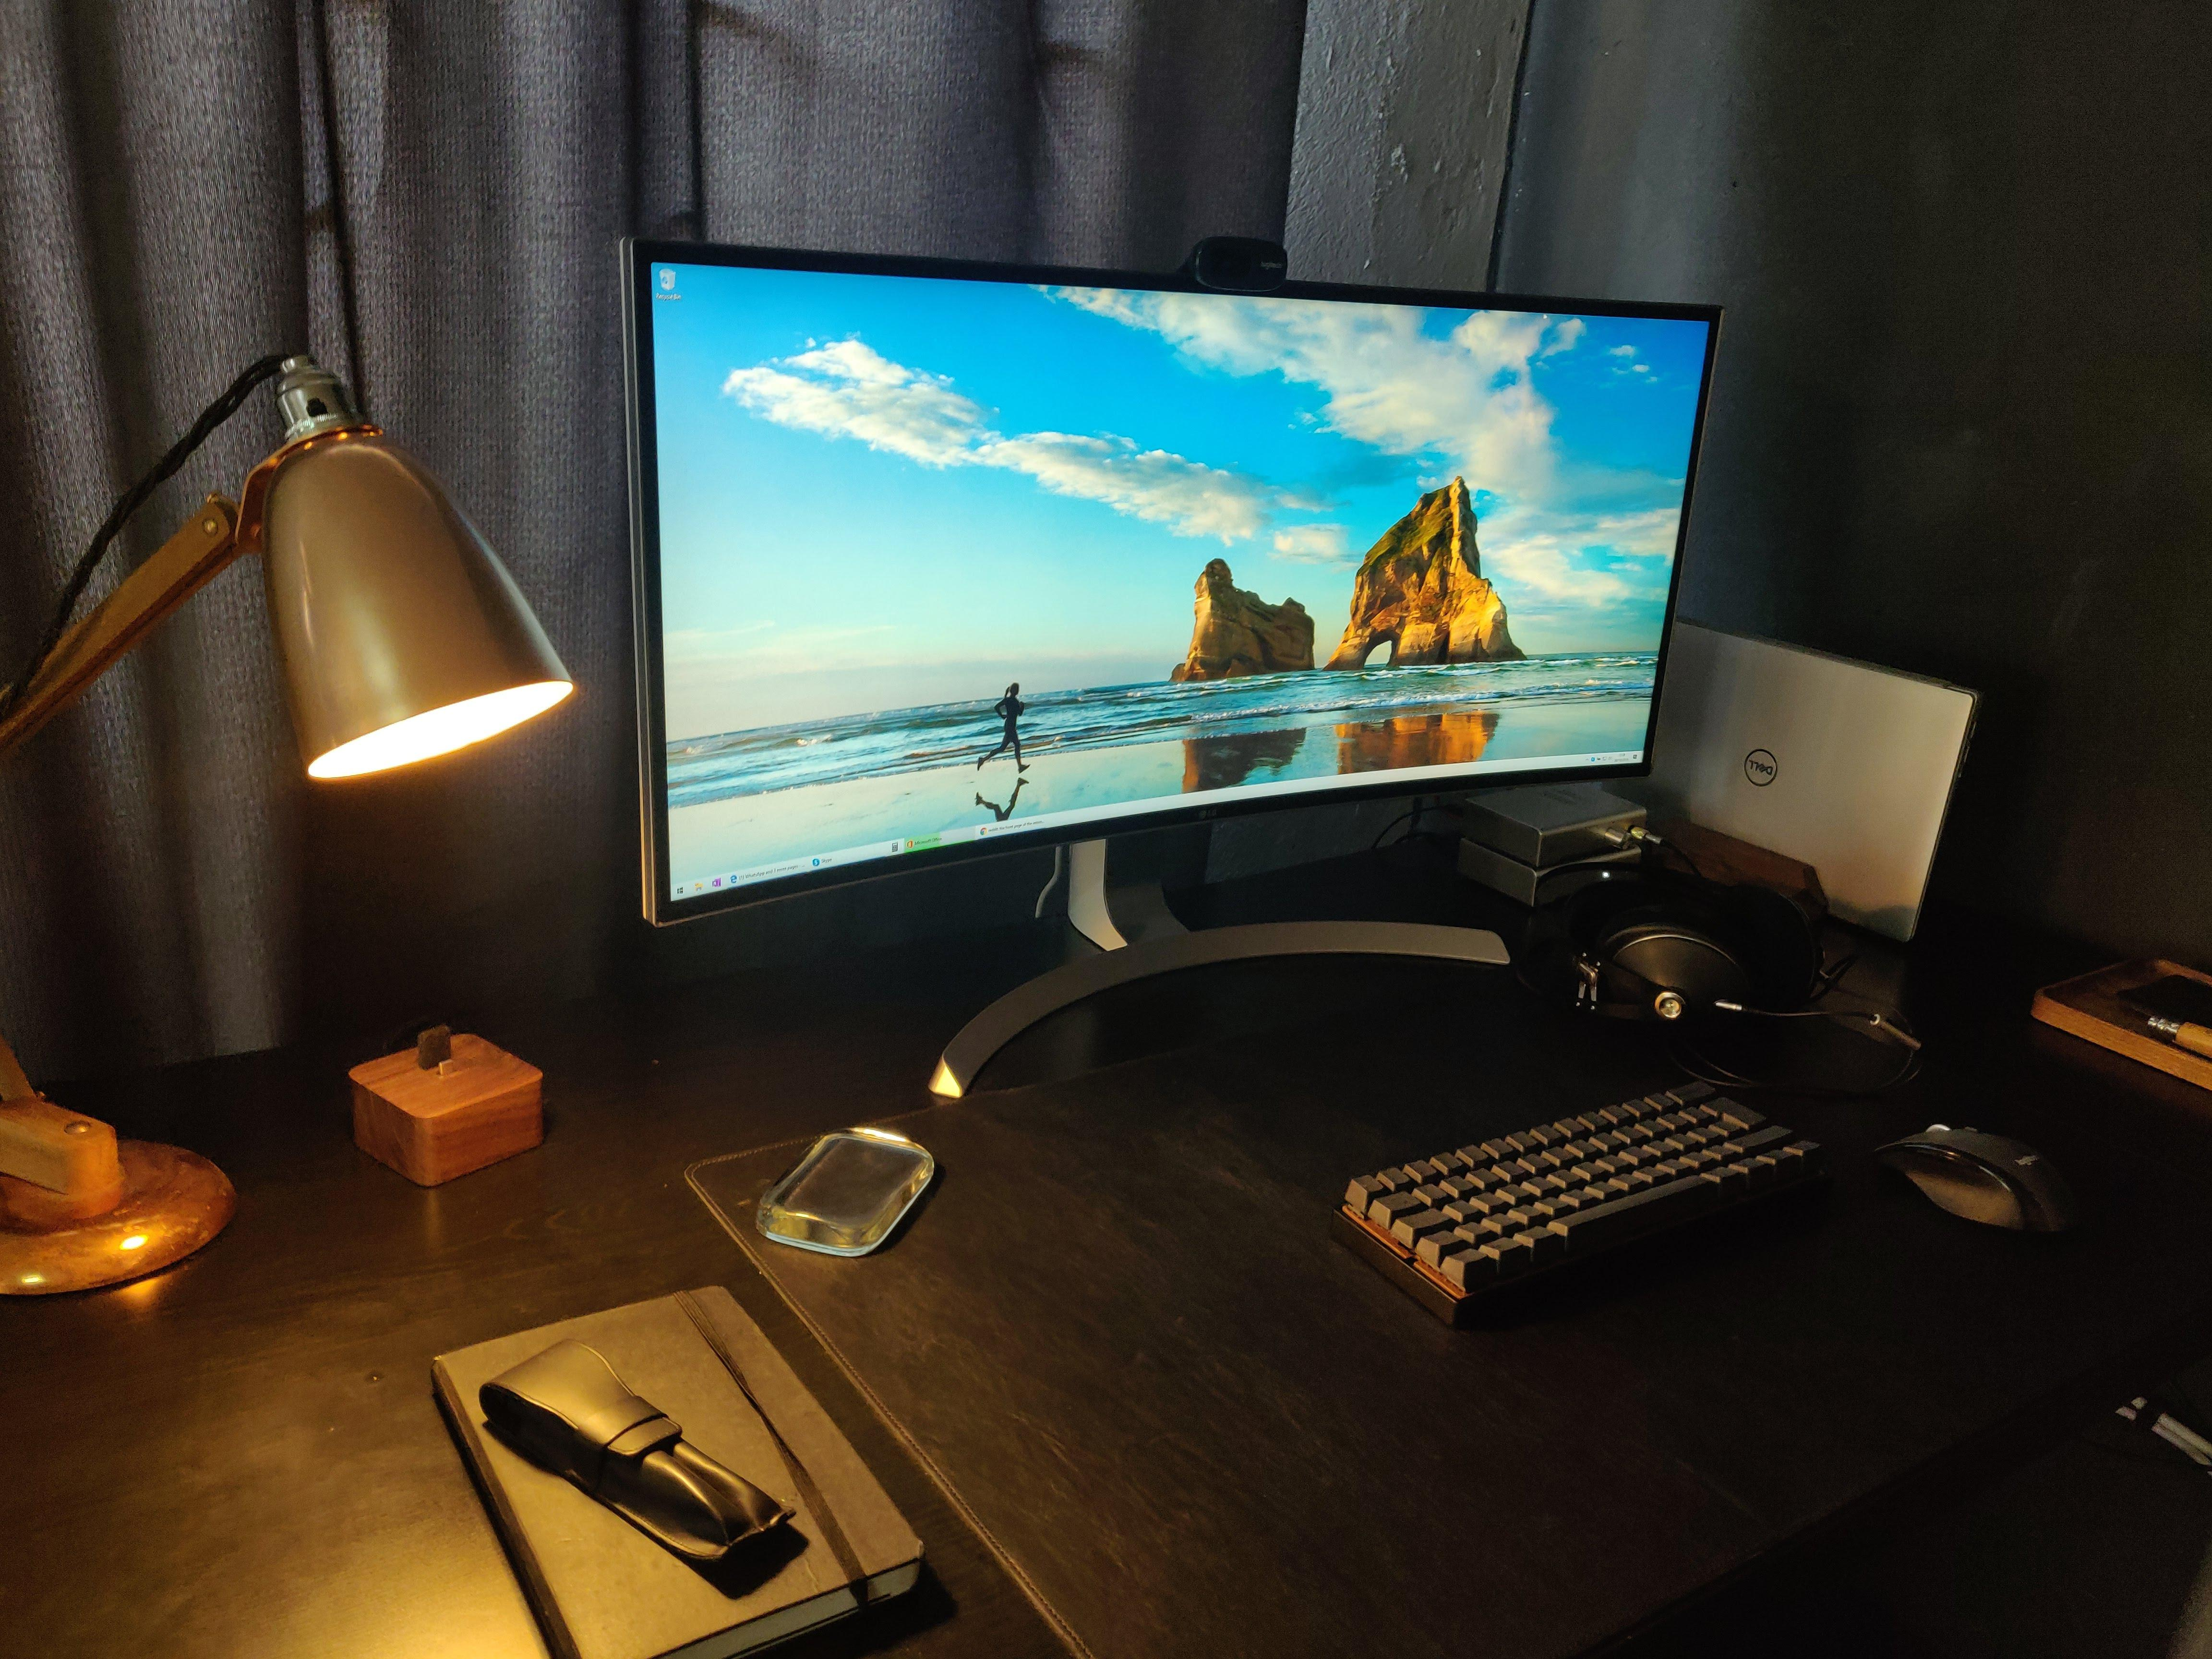Desk (Generic): (0, 812, 2193, 1635)
Headphones: (1571, 877, 1918, 1051)
Keyboard (Generic): (1291, 1053, 1855, 1340)
Lamp (Desk): (0, 331, 585, 1314)
Laptop (Windows): (1637, 615, 2029, 922)
Monitor (Landscape): (611, 228, 1750, 913)
Mouse (Ergonomic): (1864, 1100, 2092, 1241)
Notebook: (427, 1265, 939, 1659)
